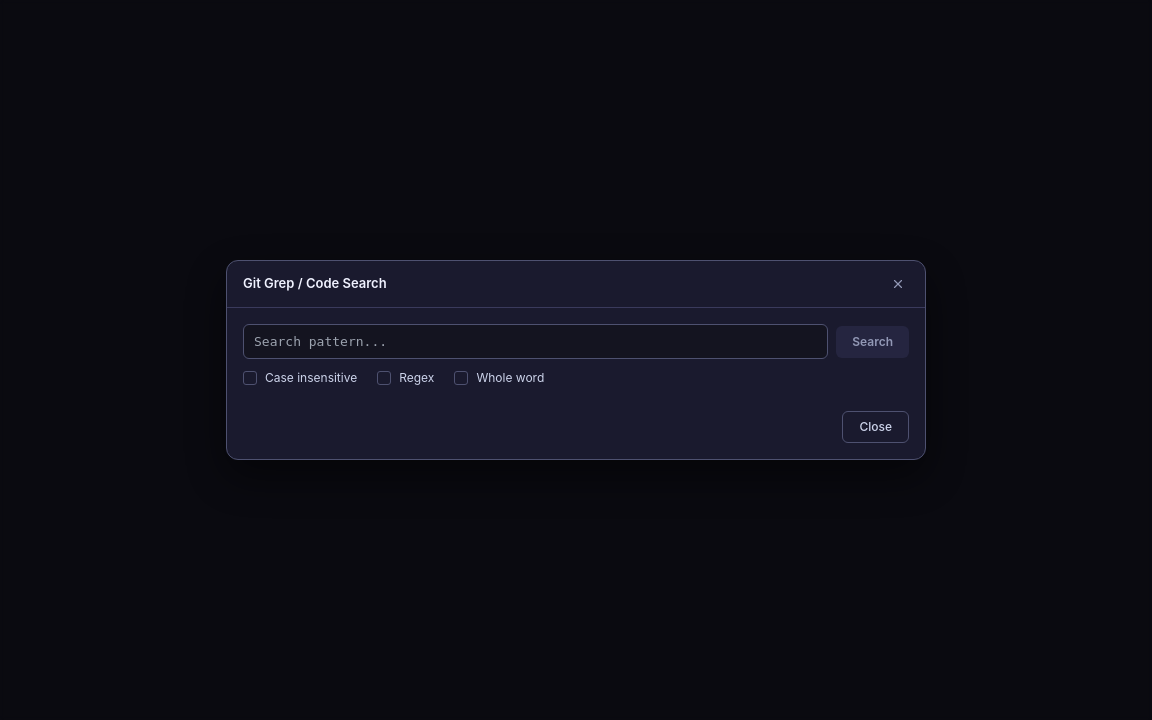
Test: GrepDialog › Search button is enabled after typing a pattern
Type "foo" into the field with placeholder "Search pattern..." at (536, 342), box [243,324,828,359]
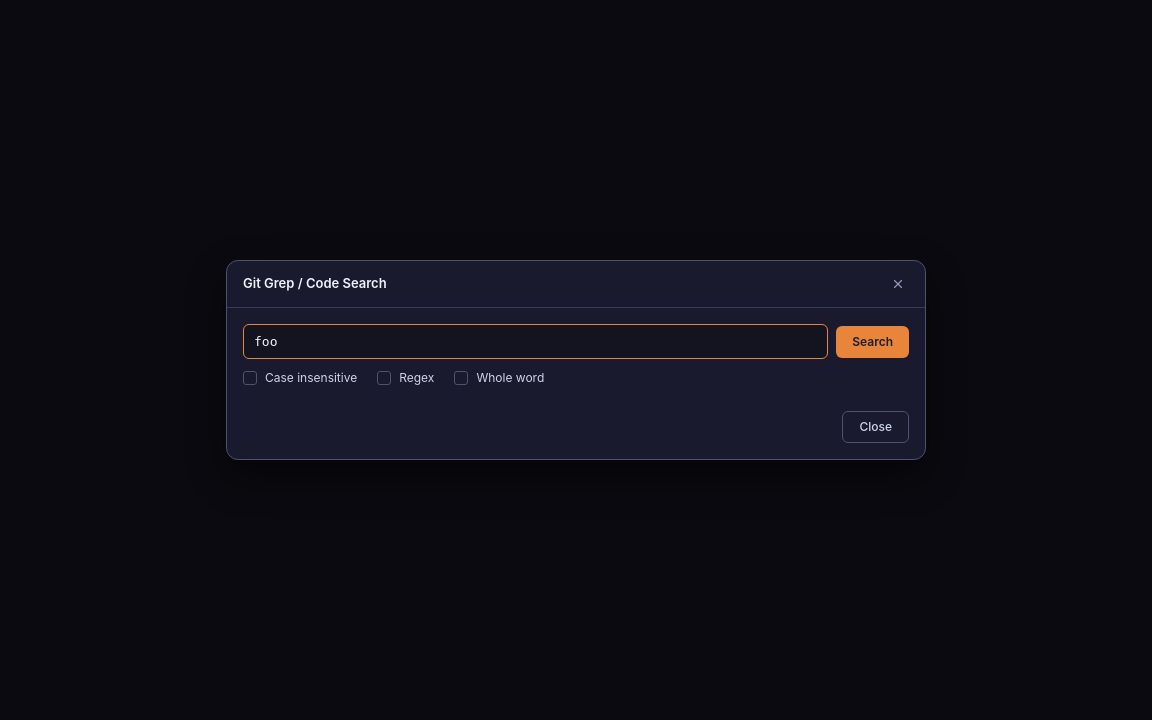
Result: the button "Search" is enabled at [836,326,909,358]
